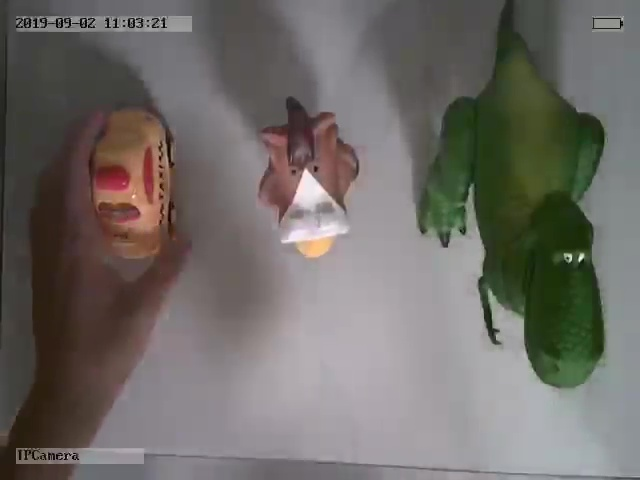car: (92, 104, 178, 258)
horse: (256, 95, 361, 258)
rex: (417, 8, 608, 388)
